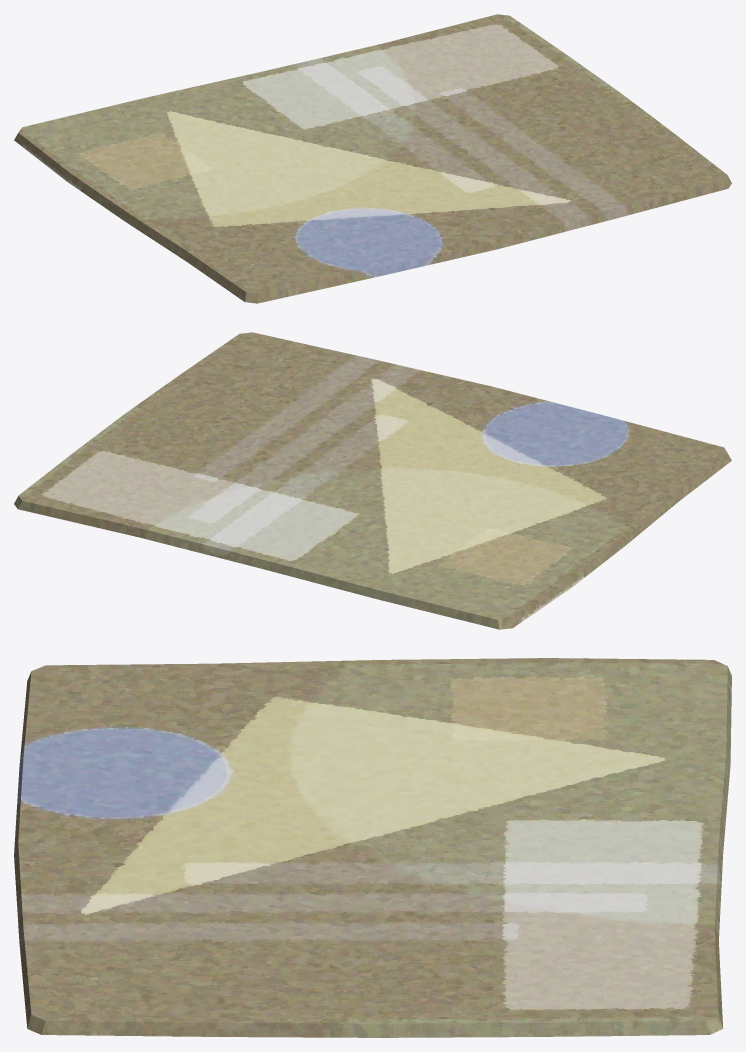
Rendered from rug_mdl.fbx.
3 views of the same model, one above another, from view 1: azimuth 30°, elevation 25°; view 2: azimuth 150°, elevation 25°; view 3: azimuth 270°, elevation 25° (orthographic). The views are drawn at different scales.
Parts seen in each view (by area): view 1: rug_geo; view 2: rug_geo; view 3: rug_geo.
Part boxes in pixels (box(x1,y1,x2,y2)): rug_geo: box(14, 14, 731, 303); rug_geo: box(14, 332, 731, 629); rug_geo: box(14, 658, 731, 1037).
Size of the model in its own units: 2.84 by 0.0429 by 2.33.
